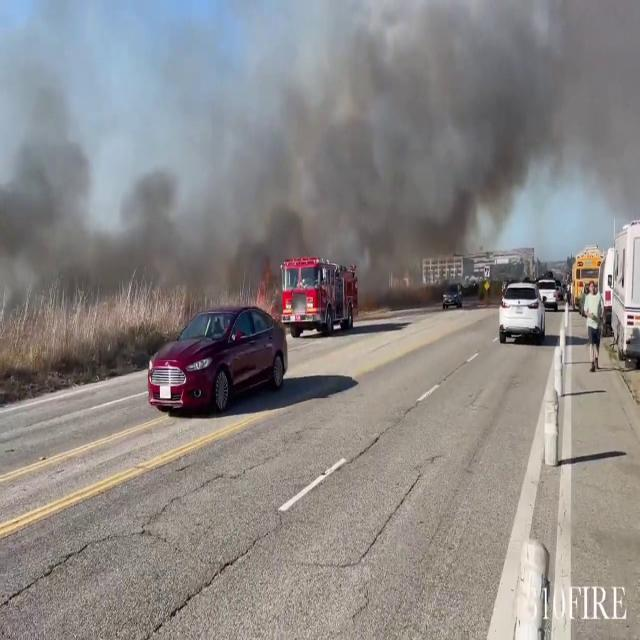Smoke: (0, 3, 629, 289)
